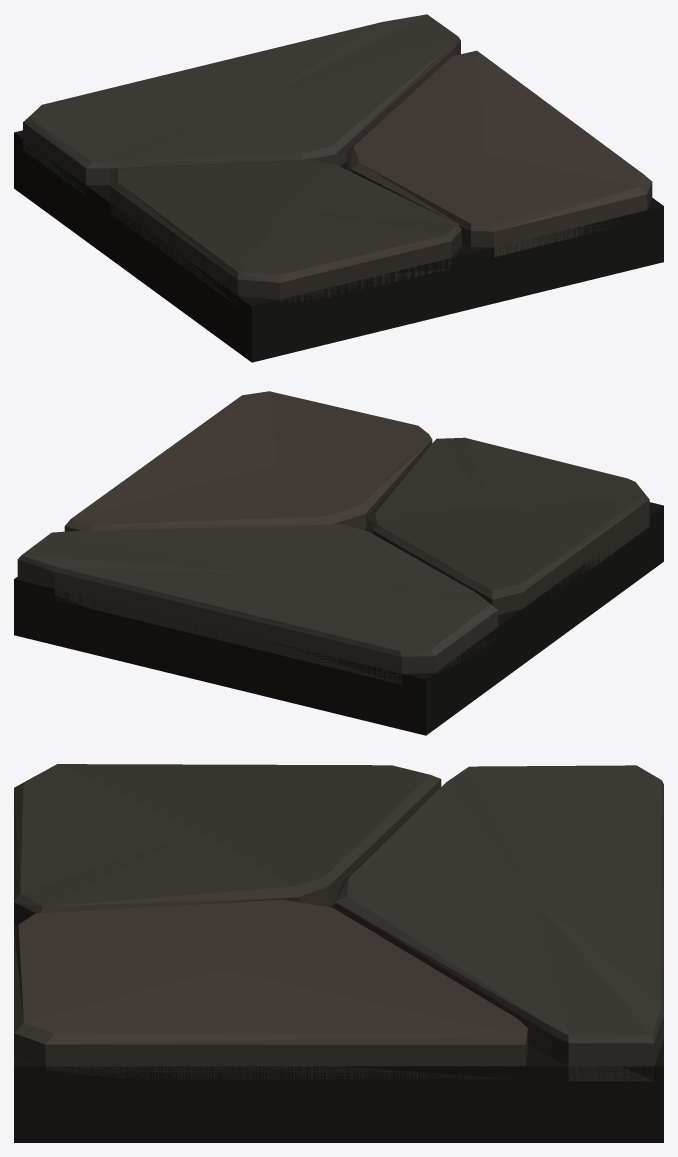
The model's file is Floor_1m_A.fbx.
The picture shows the model from 3 angles, top to bottom: view 1: azimuth 30°, elevation 25°; view 2: azimuth 150°, elevation 25°; view 3: azimuth 270°, elevation 25°; orthographic projection. The views are drawn at different scales.
Visible parts, largest first — view 1: Floor_1m_A; view 2: Floor_1m_A; view 3: Floor_1m_A.
Part boxes in pixels (x1,y1,x2,y2): Floor_1m_A: (14, 14, 663, 362); Floor_1m_A: (14, 391, 663, 735); Floor_1m_A: (14, 764, 663, 1142).
Size of the model in its own units: 1 by 0.18 by 1.
Materials: 1 (1 with a texture image).
